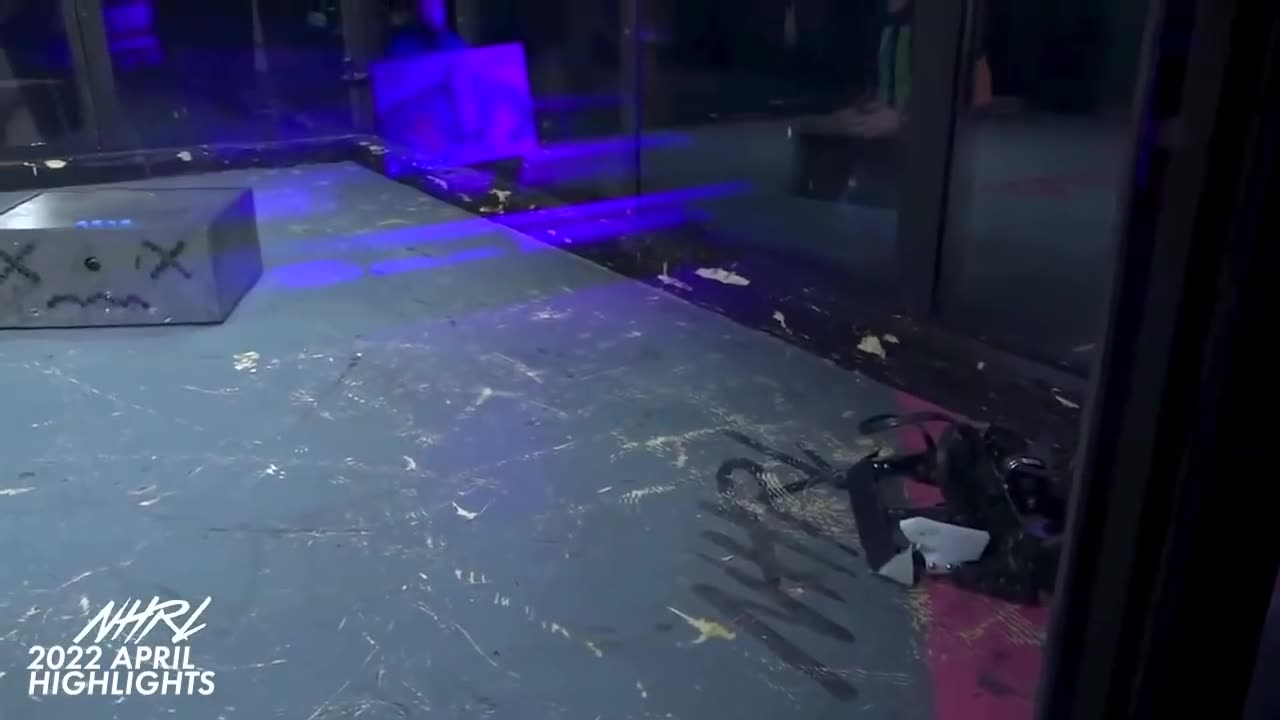combatbot: (844, 410, 1063, 606)
housebot: (0, 184, 264, 328)
